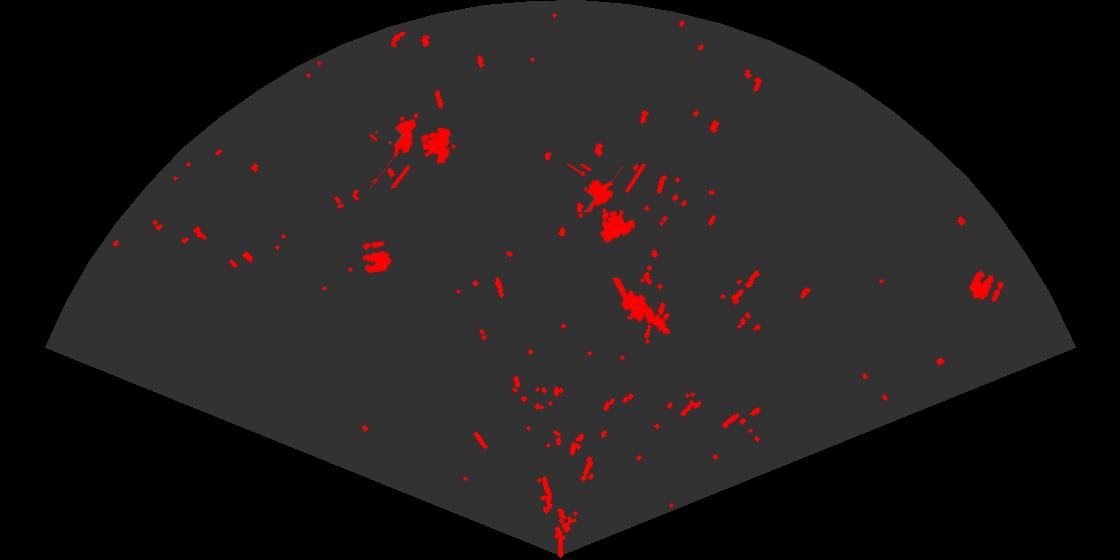ball: (968, 269, 1005, 304), (361, 240, 393, 275)
cage: (565, 164, 648, 244), (370, 112, 452, 188)
frogman: (611, 278, 672, 336)
